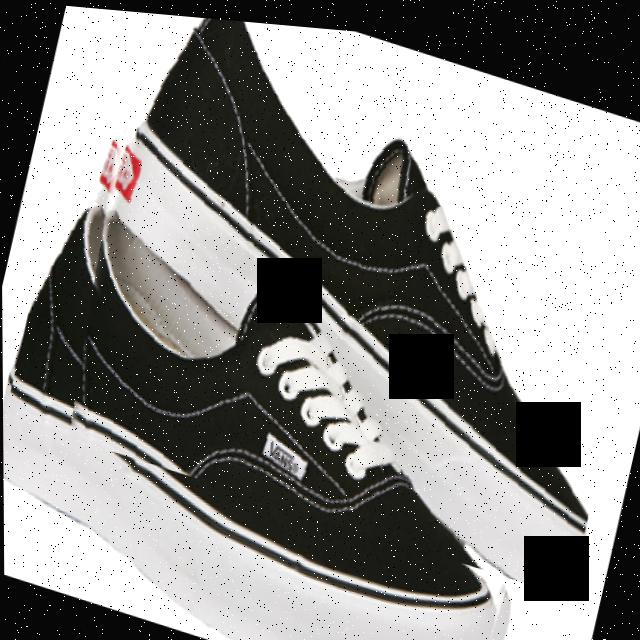shoe: (0, 0, 640, 640), (37, 3, 640, 593), (1, 185, 579, 640)
